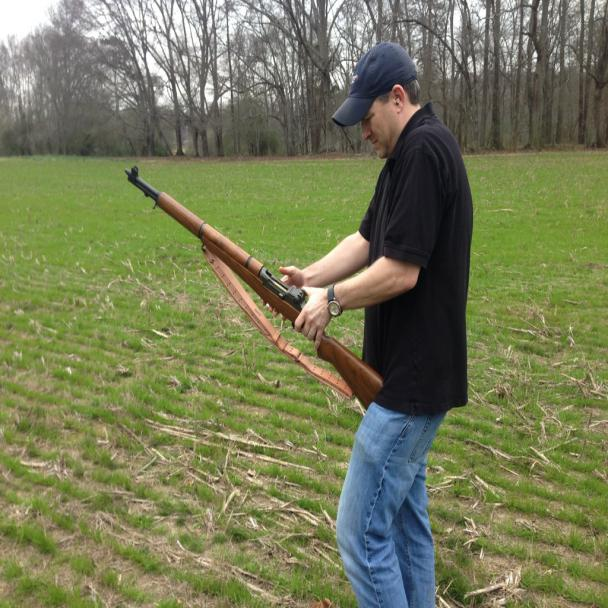Gun: (121, 161, 389, 409), (295, 285, 337, 346), (277, 258, 316, 291)
